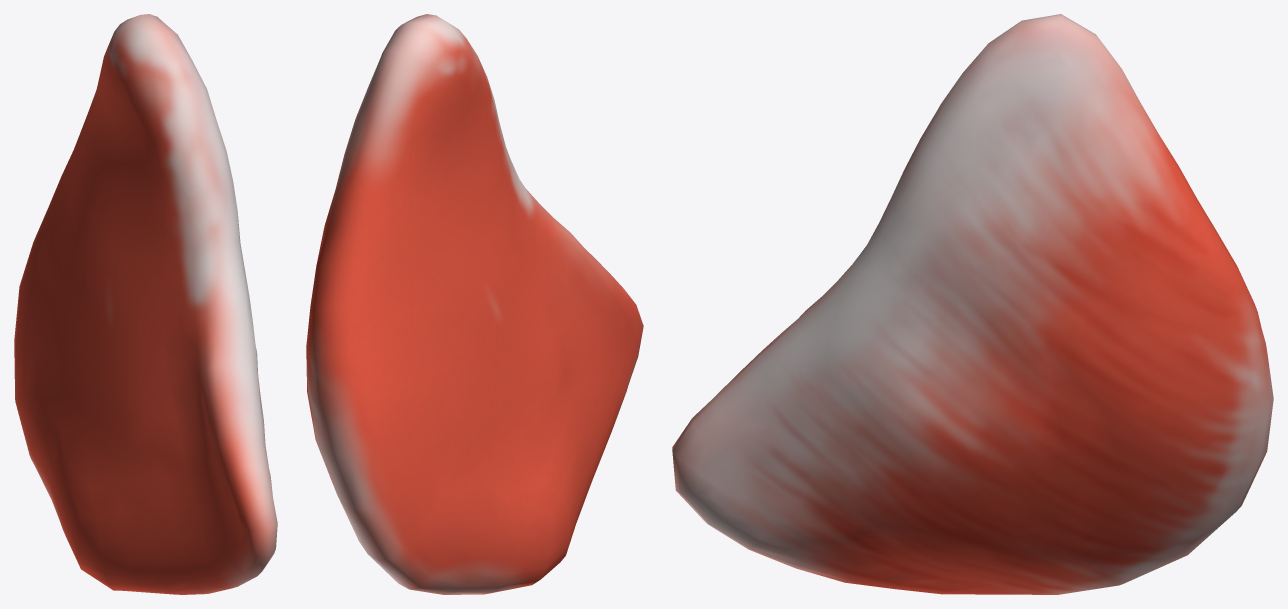
The model's file is Masseter.glb.
3 renders of one model, left to right at view 1: azimuth 30°, elevation 25°; view 2: azimuth 150°, elevation 25°; view 3: azimuth 270°, elevation 25°, orthographic. The views are drawn at different scales.
Visible parts, largest first — view 1: Masseter.glb; view 2: Masseter.glb; view 3: Masseter.glb.
Boxes of the visible parts, x1,y1,x2,y2 form: Masseter.glb: (14, 14, 277, 594); Masseter.glb: (306, 14, 643, 594); Masseter.glb: (672, 14, 1273, 594).
Bounding box in the file's own units: 0.0807 × 0.2568 × 0.2264.
Materials: 1 (1 with a texture image).
